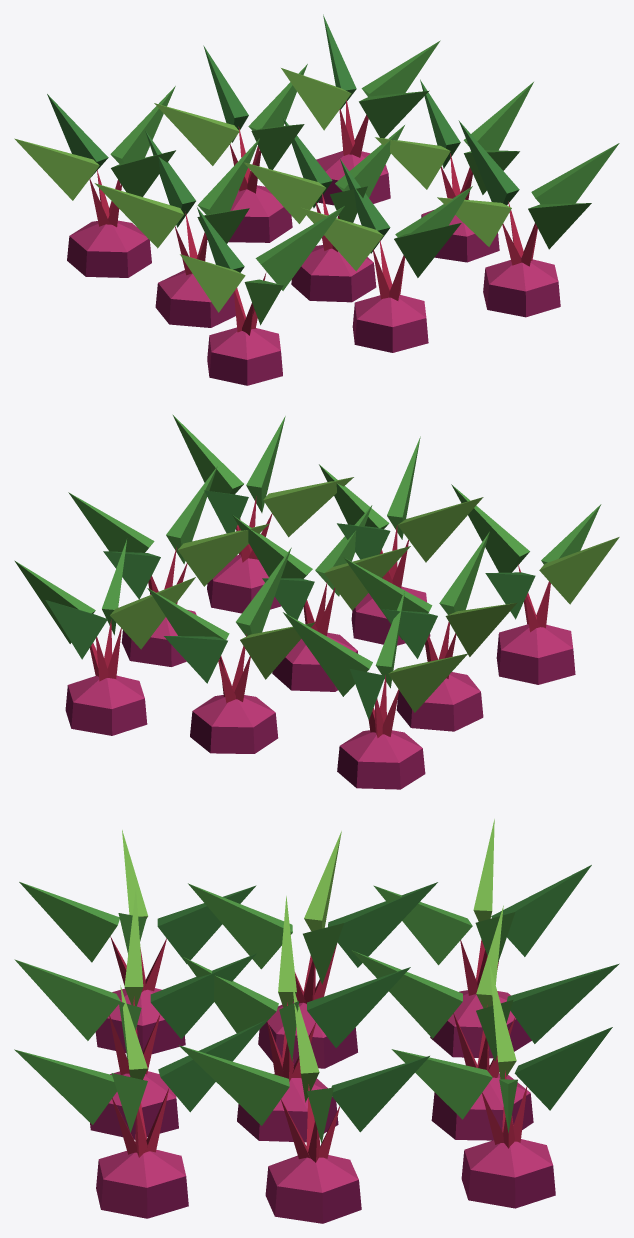
File: beet-4.glb
3 renders of one model, top to bottom at view 1: azimuth 30°, elevation 25°; view 2: azimuth 150°, elevation 25°; view 3: azimuth 270°, elevation 25°, orthographic. The views are drawn at different scales.
Visible parts, largest first — view 1: beet-4; view 2: beet-4; view 3: beet-4.
Boxes of the visible parts, left/top/right/bottom form: beet-4: left=14, top=14, right=619, bottom=385; beet-4: left=14, top=414, right=619, bottom=789; beet-4: left=14, top=819, right=619, bottom=1223.
Size of the model in its own units: 0.8586 by 0.2953 by 0.8315.
1 material, 1 textured.
